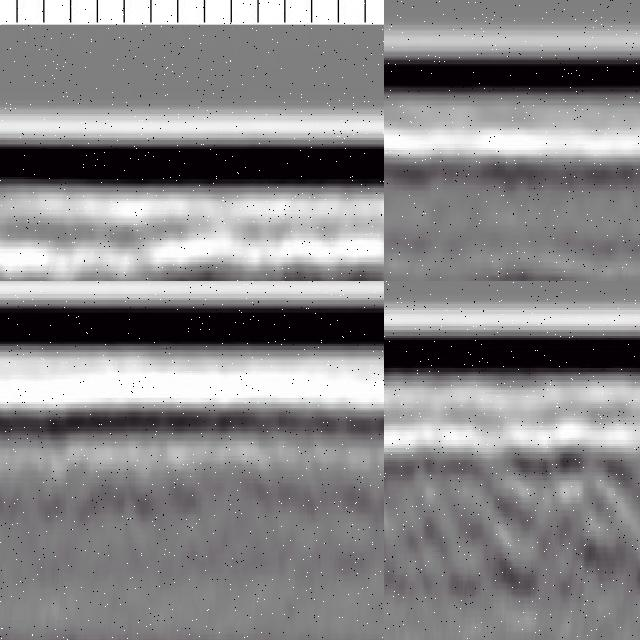loose: (417, 417, 640, 585), (469, 244, 640, 282)
